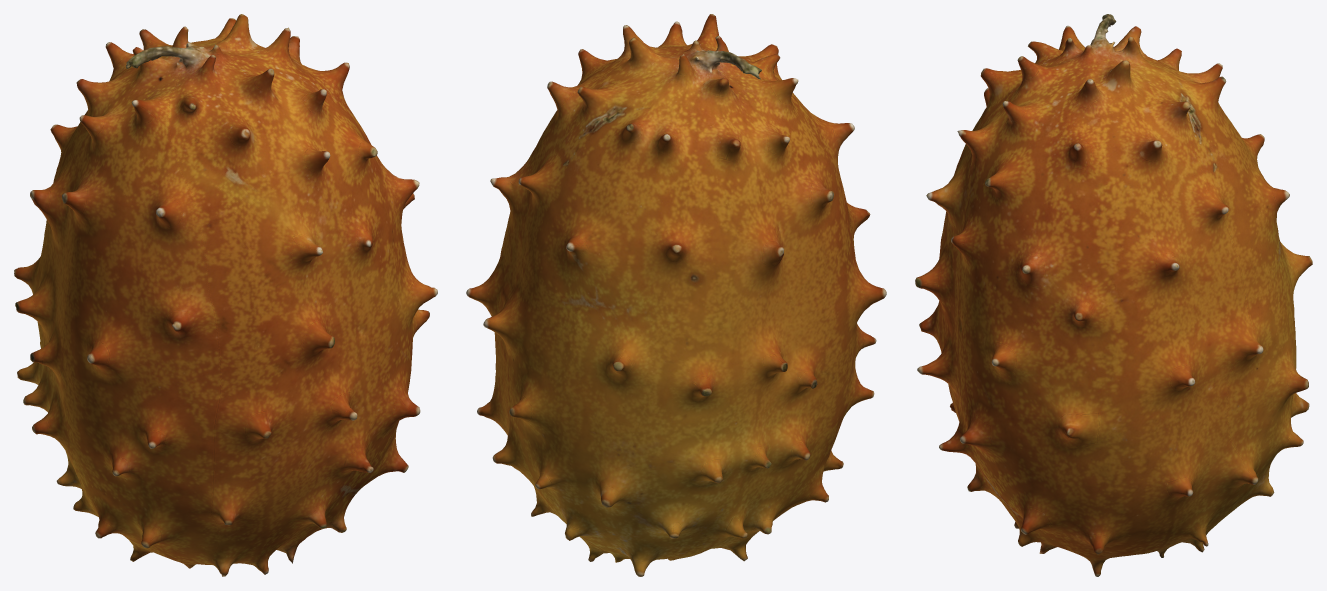
The model's file is kiwano.glb.
3 views of the same model, side by side, from view 1: azimuth 30°, elevation 25°; view 2: azimuth 150°, elevation 25°; view 3: azimuth 270°, elevation 25° (orthographic). The views are drawn at different scales.
Visible parts, largest first — view 1: Object_4, Object_3; view 2: Object_4, Object_3; view 3: Object_4, Object_3.
Part boxes in pixels (x1,y1,x2,y2): Object_4: [14, 14, 437, 576]; Object_3: [14, 26, 436, 574]; Object_4: [466, 14, 886, 575]; Object_3: [466, 14, 873, 576]; Object_4: [915, 14, 1312, 576]; Object_3: [917, 18, 1303, 576].
Size of the model in its own units: 2.99 by 4.12 by 2.97.
1 material, 1 textured.
